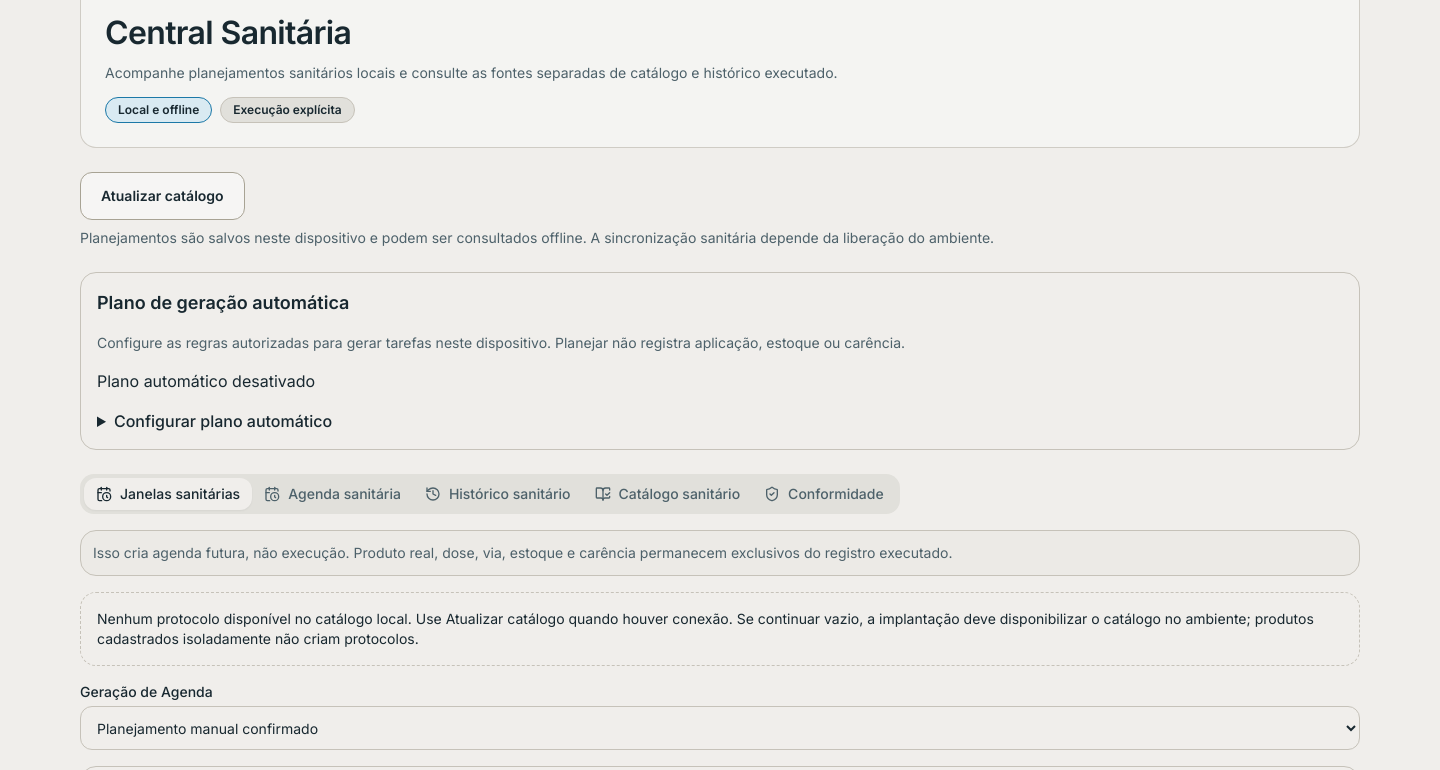
Central Sanitária › lista eventos executados e filtros na visão de histórico
The width and height of the screenshot is (1440, 770).
Click the tab "Histórico sanitário": click(498, 494) x1=413 y1=478 x2=582 y2=510
(page scrolled)
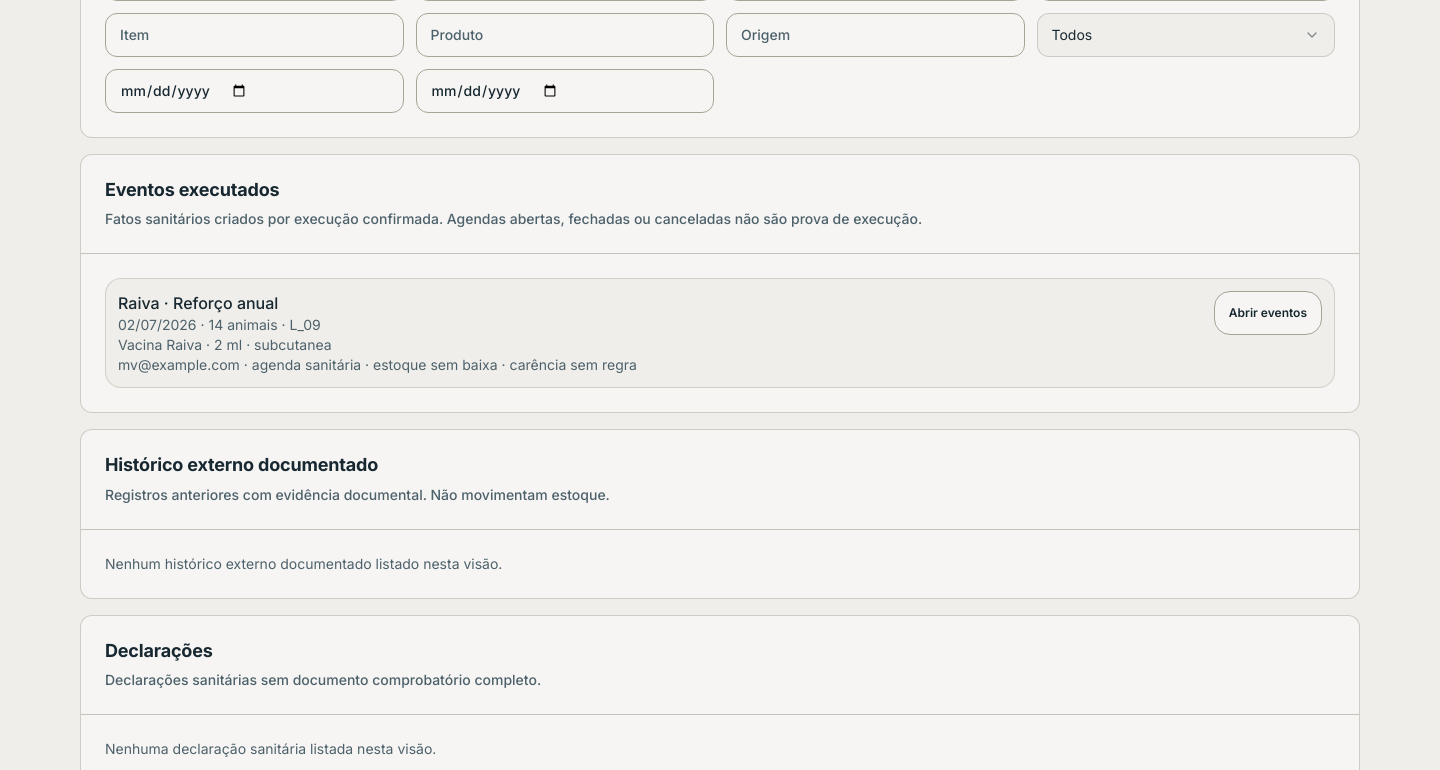
Check: the heading "Eventos executados" is shown, box x1=105 y1=178 x2=280 y2=200
Check: the field labelled "Produto" is shown, box x1=416 y1=12 x2=714 y2=56
Check: the dropdown named "Tipo de registro" is shown, box x1=1036 y1=12 x2=1335 y2=56
